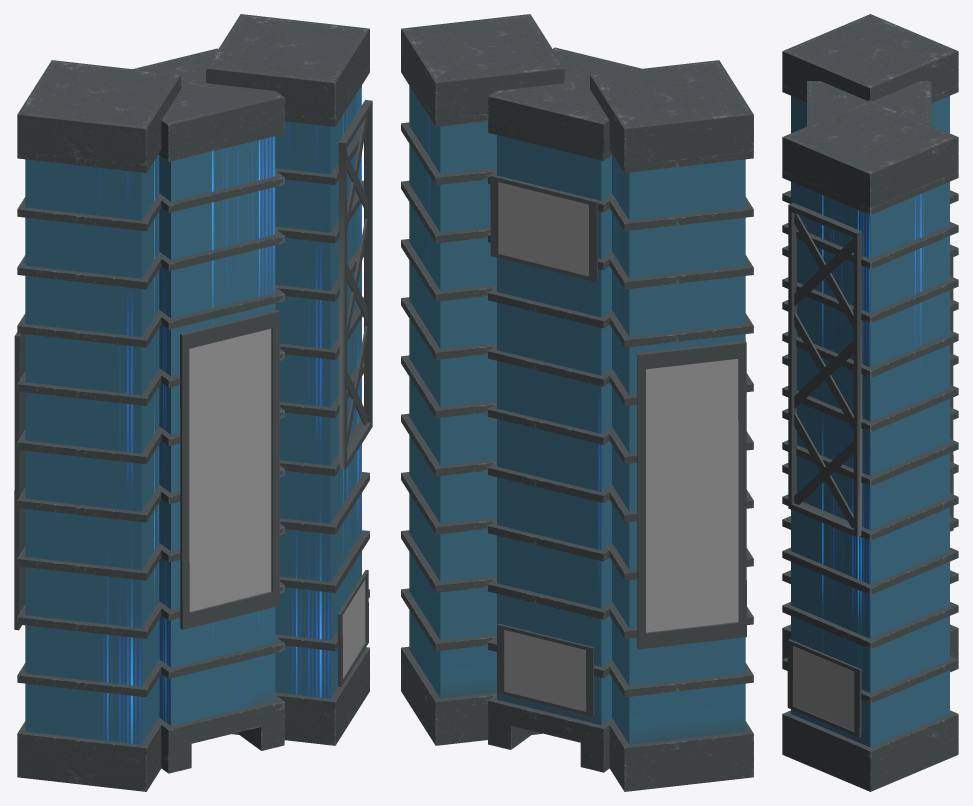
Rendered from BLD1310012.fbx.
3 views of the same model, side by side, from view 1: azimuth 30°, elevation 25°; view 2: azimuth 150°, elevation 25°; view 3: azimuth 270°, elevation 25° (orthographic). The views are drawn at different scales.
Parts seen in each view (by area): view 1: smBLD1310012; view 2: smBLD1310012; view 3: smBLD1310012.
Boxes of the visible parts, bbox=[...] form: smBLD1310012: bbox=[14, 14, 372, 791]; smBLD1310012: bbox=[401, 14, 753, 791]; smBLD1310012: bbox=[782, 14, 958, 791].
Bounding box in the file's own units: 3632 × 6517 × 1688.
4 materials, 1 textured.
